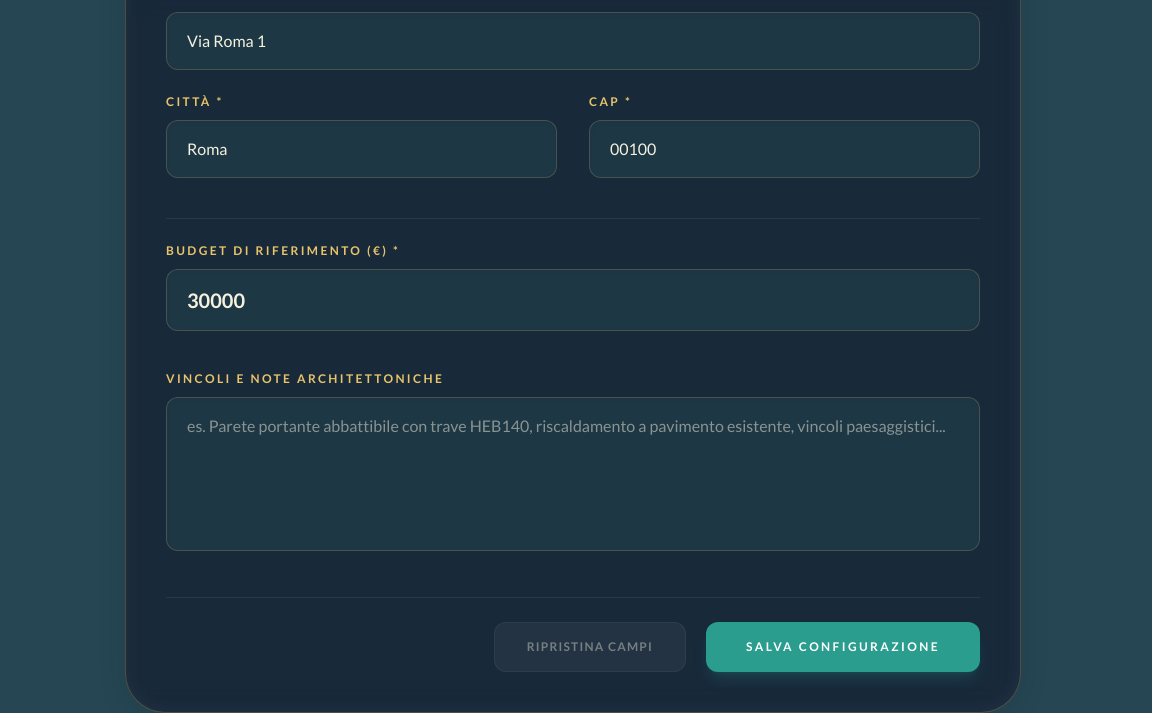
Test: ConstructionDetailsForm › saves the details of the house and refreshes what the dashboard shows of it
This screenshot has width=1152, height=713.
(page scrolled)
Click the button "Salva Configurazione".
click(843, 647)  # box [706,622,980,672]
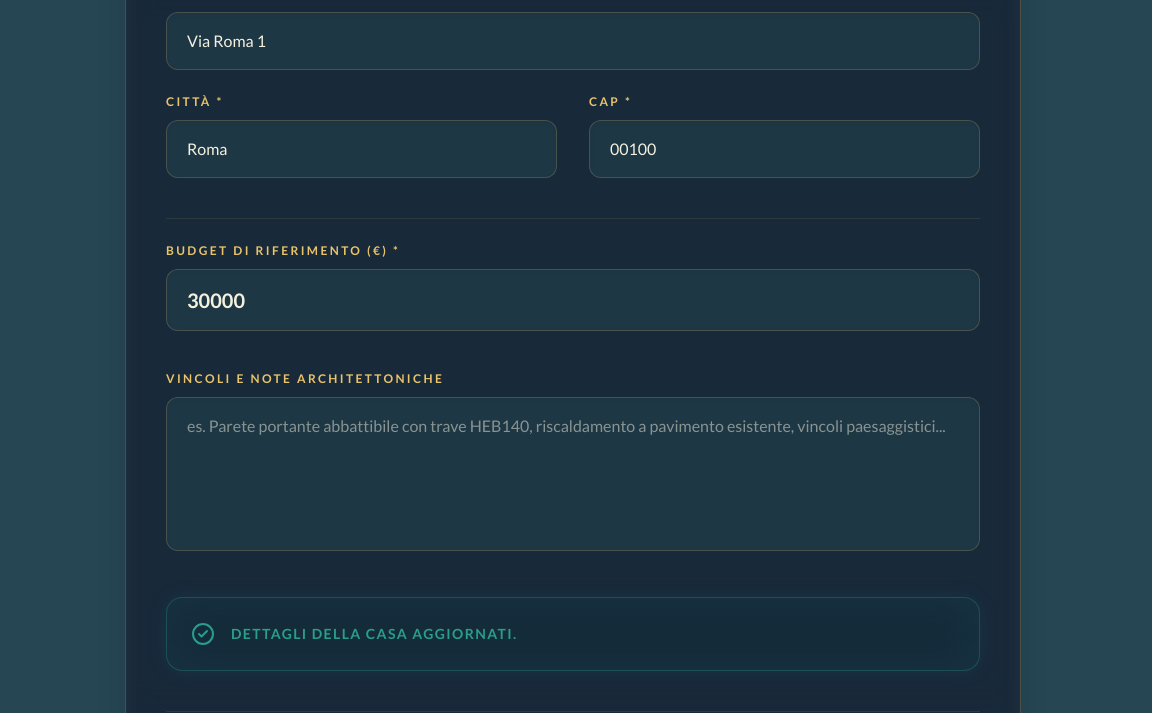
Check: the text "Dettagli della casa aggiornati." is shown, box [231,624,518,644]
